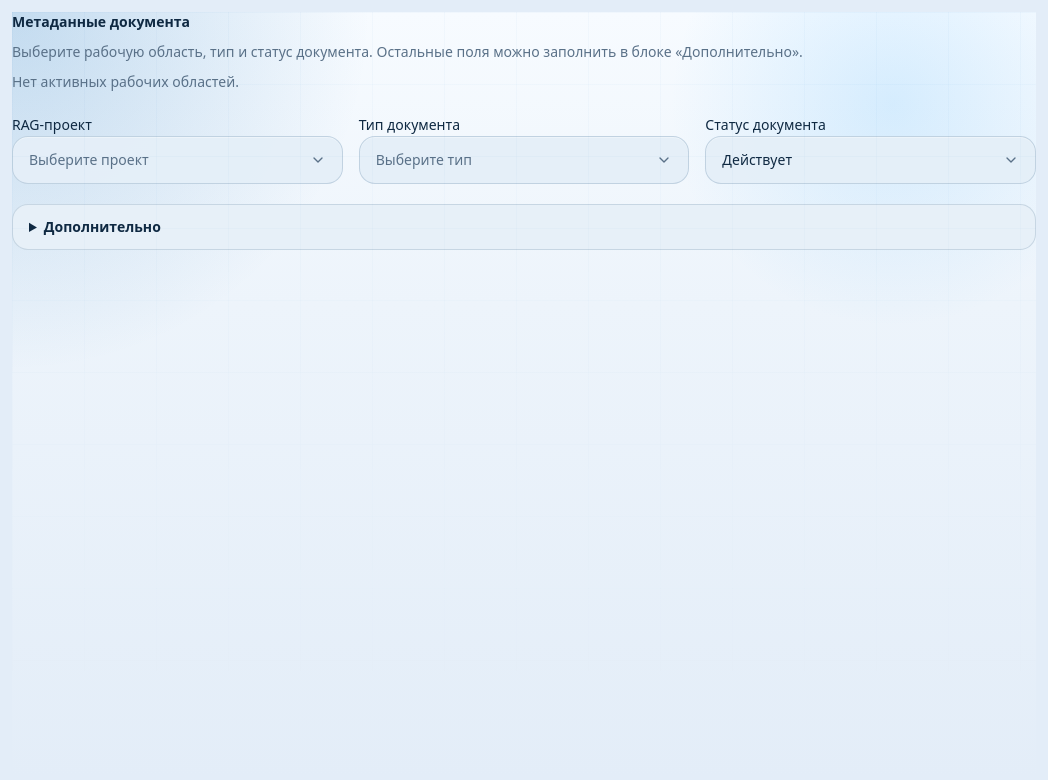
it: MaterialMetadataFormSection › keeps project disabled when no workspace is available
Click the heading "Дополнительно". click: (102, 226)
box: x1=44 y1=217 x2=161 y2=236
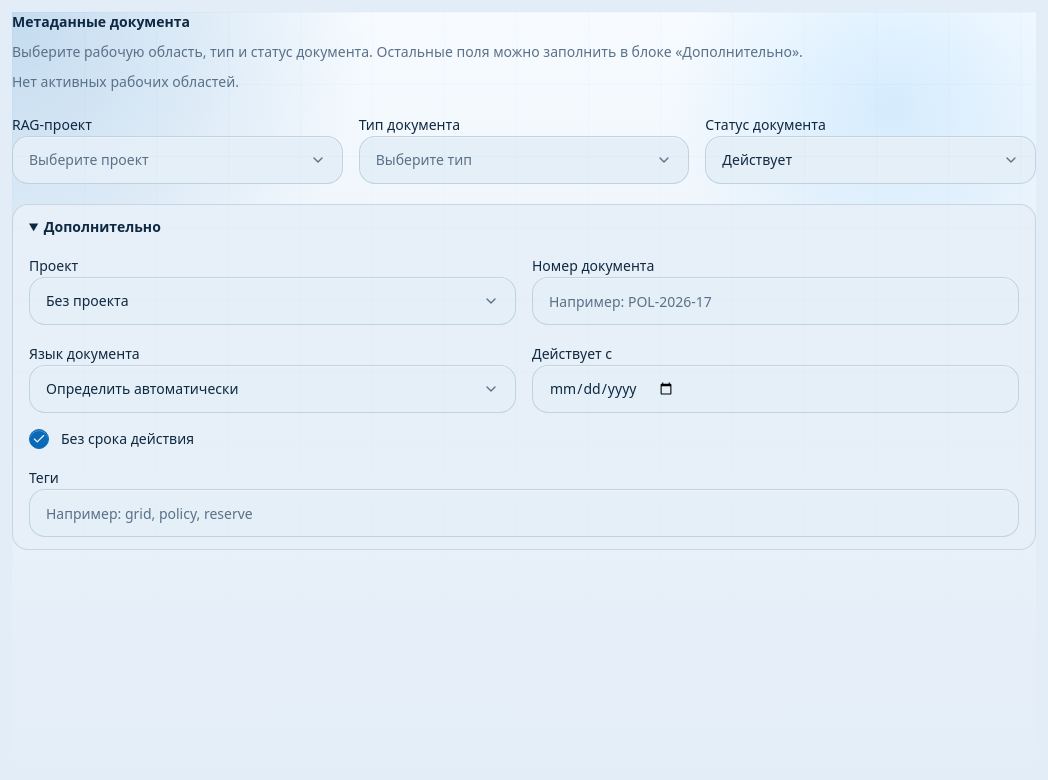
Now the dropdown labelled "проект" is disabled, box x1=29 y1=277 x2=516 y2=325
